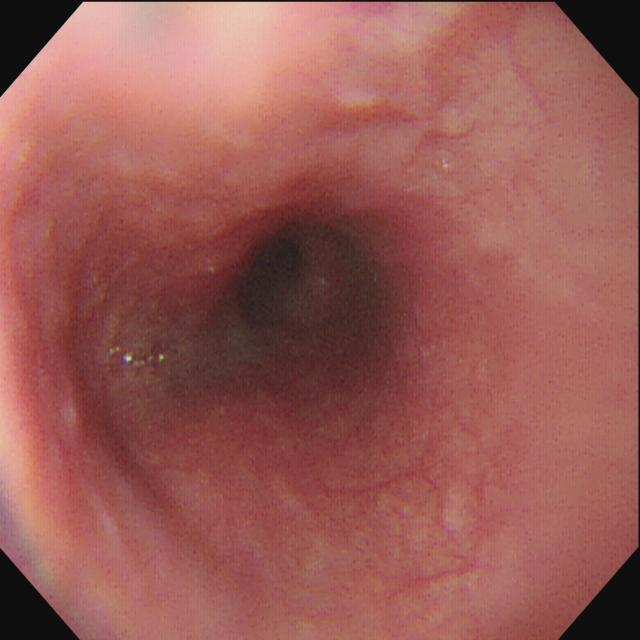E: (221, 222, 338, 352)
U: (109, 341, 169, 376)
